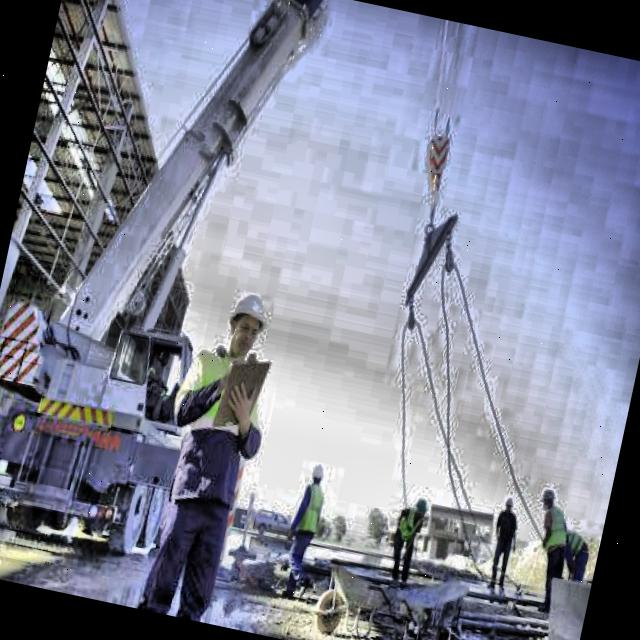helmet: (219, 287, 273, 367), (539, 483, 558, 512), (308, 462, 326, 488), (412, 493, 429, 520), (502, 496, 516, 517)
